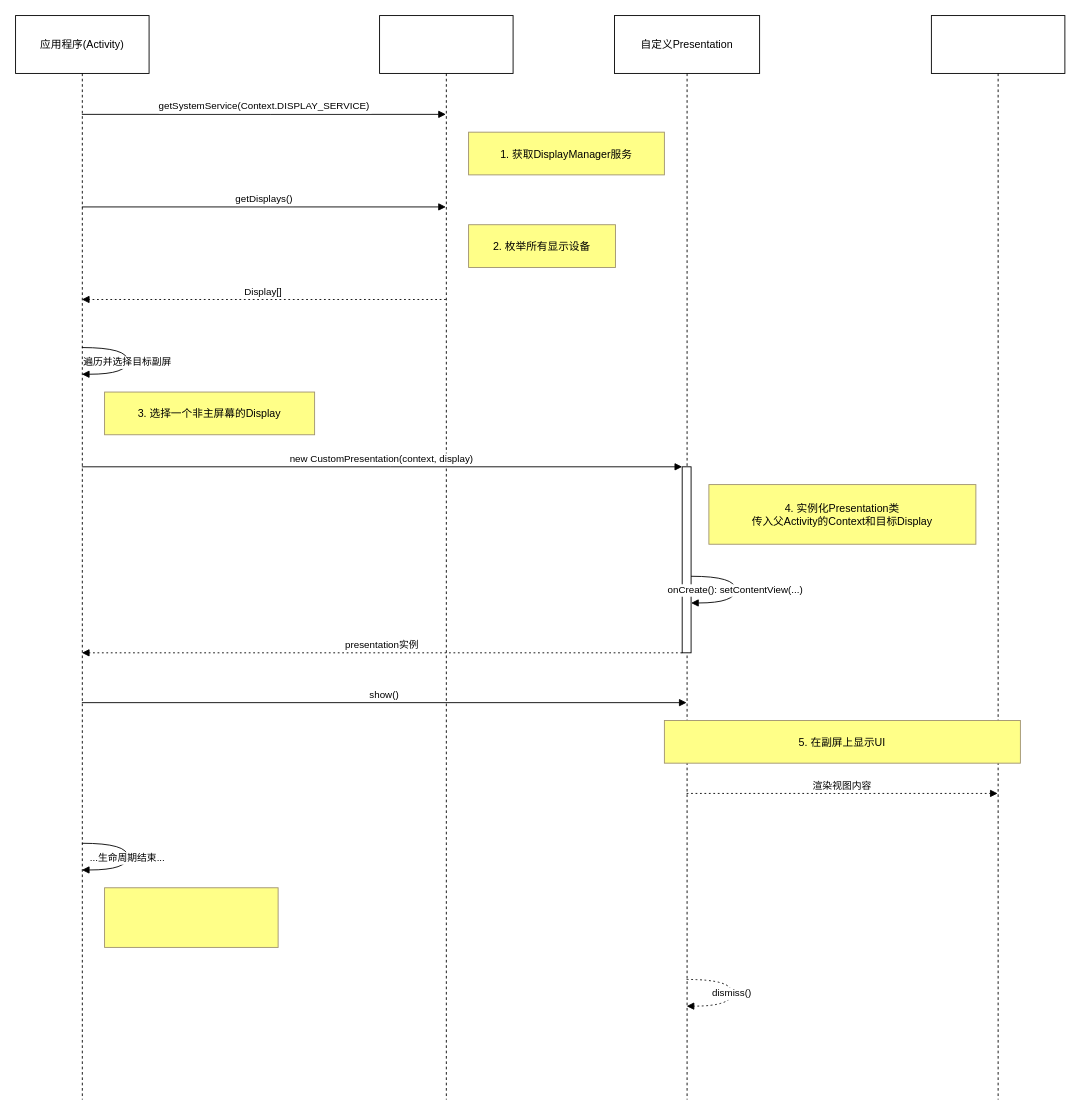
The diagram is 1080 pixels wide and 1115 high, and some of its shapes have lost their labels. The box of each missing label's shape, as (x1, y1, x2, y2) in pixels:
DisplayManager: (379, 15, 513, 1100)
副屏幕: (930, 15, 1065, 1100)
当父Activity销毁时 Presentation会自动销毁: (104, 887, 278, 947)
